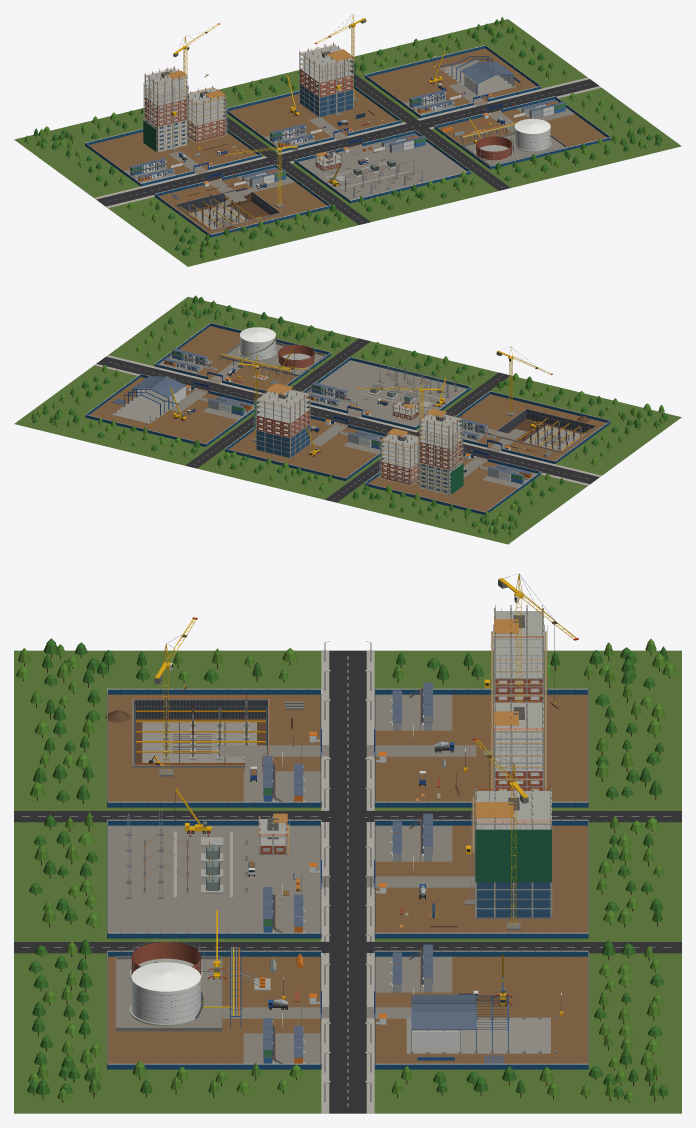
File: 21.3 MAP CONG TRUONG.fbx
3 views of the same model, one above another, from view 1: azimuth 30°, elevation 25°; view 2: azimuth 150°, elevation 25°; view 3: azimuth 270°, elevation 25° (orthographic). The views are drawn at different scales.
Parts seen in each view (by area): view 1: MAP_NEN_CO, MAP_DUONG, MAP_CAY, DA1_CHUNG_CU_KET_CAU, DA5_TRAM_BIEN_AP_NEN, DA3_NHA_XUONG_NEN, DA4_TANG_HAM_NEN, DA2_VAN_PHONG_NEN, DA1_CHUNG_CU_NEN, DA2_VAN_PHONG_KET_CAU, DA6_KHO_XANG_DAU_NEN, DA6_KHO_XANG_DAU_BON_BE (+14 smaller); view 2: MAP_NEN_CO, MAP_CAY, MAP_DUONG, DA1_CHUNG_CU_KET_CAU, DA3_NHA_XUONG_NEN, DA5_TRAM_BIEN_AP_NEN, DA4_TANG_HAM_NEN, DA2_VAN_PHONG_KET_CAU, DA2_VAN_PHONG_NEN, DA6_KHO_XANG_DAU_NEN, DA1_CHUNG_CU_NEN, DA6_KHO_XANG_DAU_BON_BE (+14 smaller); view 3: MAP_NEN_CO, MAP_DUONG, MAP_CAY, DA5_TRAM_BIEN_AP_NEN, DA3_NHA_XUONG_NEN, DA4_TANG_HAM_NEN, DA6_KHO_XANG_DAU_NEN, DA1_CHUNG_CU_NEN, DA2_VAN_PHONG_NEN, DA1_CHUNG_CU_KET_CAU, DA6_KHO_XANG_DAU_BON_BE, DA2_VAN_PHONG_KET_CAU (+15 smaller).
Boxes of the visible parts, x1,y1,x2,y2 form: MAP_NEN_CO: (14,19,681,266); MAP_DUONG: (94,71,601,224); MAP_CAY: (24,17,662,260); DA1_CHUNG_CU_KET_CAU: (144,67,225,152); DA5_TRAM_BIEN_AP_NEN: (298,133,466,200); DA3_NHA_XUONG_NEN: (369,48,537,114); DA4_TANG_HAM_NEN: (158,167,327,234); DA2_VAN_PHONG_NEN: (229,89,397,147); DA1_CHUNG_CU_NEN: (89,132,257,183); DA2_VAN_PHONG_KET_CAU: (299,43,353,117); DA6_KHO_XANG_DAU_NEN: (438,99,606,165); DA6_KHO_XANG_DAU_BON_BE: (459,118,567,165); MAP_NEN_CO: (14,297,681,544); MAP_CAY: (31,295,668,536); MAP_DUONG: (94,338,601,502); DA1_CHUNG_CU_KET_CAU: (381,408,462,494); DA3_NHA_XUONG_NEN: (89,377,254,443); DA5_TRAM_BIEN_AP_NEN: (307,360,466,426); DA4_TANG_HAM_NEN: (458,394,606,460); DA2_VAN_PHONG_KET_CAU: (256,383,310,458); DA2_VAN_PHONG_NEN: (229,418,384,477); DA6_KHO_XANG_DAU_NEN: (158,326,327,391); DA1_CHUNG_CU_NEN: (368,455,536,511); DA6_KHO_XANG_DAU_BON_BE: (218,327,326,380); MAP_NEN_CO: (14,650,681,1113); MAP_DUONG: (14,641,681,1113); MAP_CAY: (16,638,676,1102); DA5_TRAM_BIEN_AP_NEN: (108,825,320,932); DA3_NHA_XUONG_NEN: (375,956,587,1063); DA4_TANG_HAM_NEN: (105,694,320,801); DA6_KHO_XANG_DAU_NEN: (108,956,320,1063); DA1_CHUNG_CU_NEN: (375,694,587,801); DA2_VAN_PHONG_NEN: (375,825,587,932); DA1_CHUNG_CU_KET_CAU: (494,608,543,790); DA6_KHO_XANG_DAU_BON_BE: (115,942,270,1031); DA2_VAN_PHONG_KET_CAU: (475,788,552,918).
Bounding box in the file's own units: 410 × 88.82 × 250.
1 material, 1 textured.
